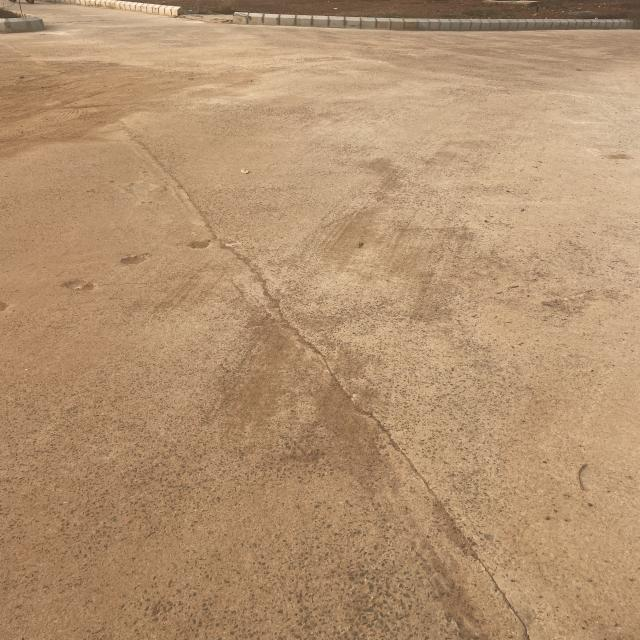D43: (77, 117, 556, 624)
